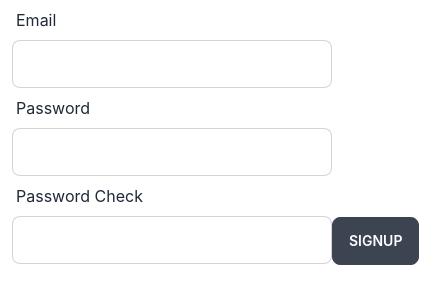
it: Signup › password field should show error message if › clicked and blank
Click the field labelled "Password" at (172, 152), box [12, 128, 332, 176]
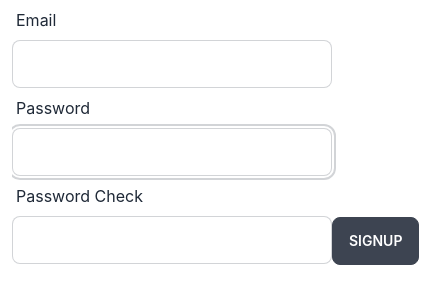
Click the field labelled "Email" at (172, 64), box [12, 40, 332, 88]
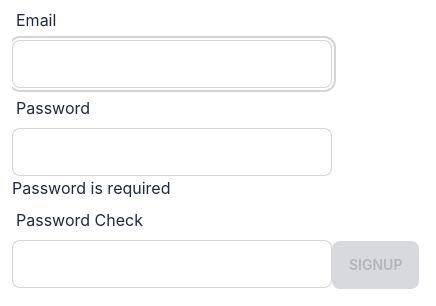
expect the text "Password is required" is shown: met, box [12, 178, 170, 198]
